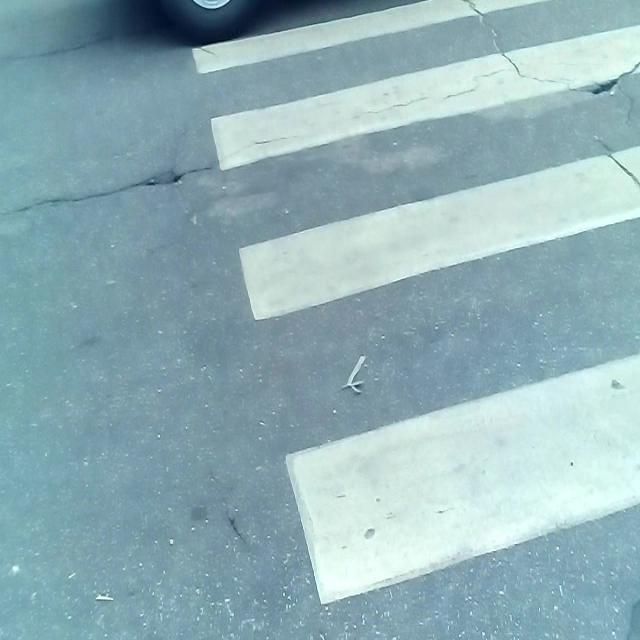crosswalk: (189, 0, 640, 640)
